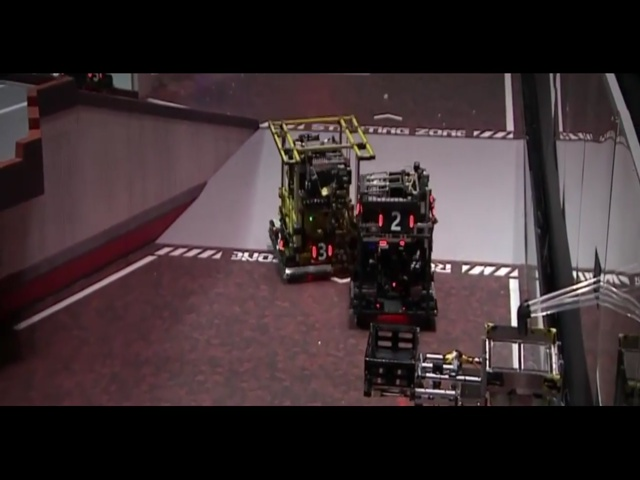bluePlate: (548, 331, 583, 365), (487, 325, 520, 353), (315, 160, 339, 195), (278, 167, 300, 192), (467, 149, 487, 171), (260, 210, 278, 230)
redPlate: (138, 361, 185, 392), (209, 352, 236, 379), (398, 190, 416, 214), (424, 192, 443, 212)
